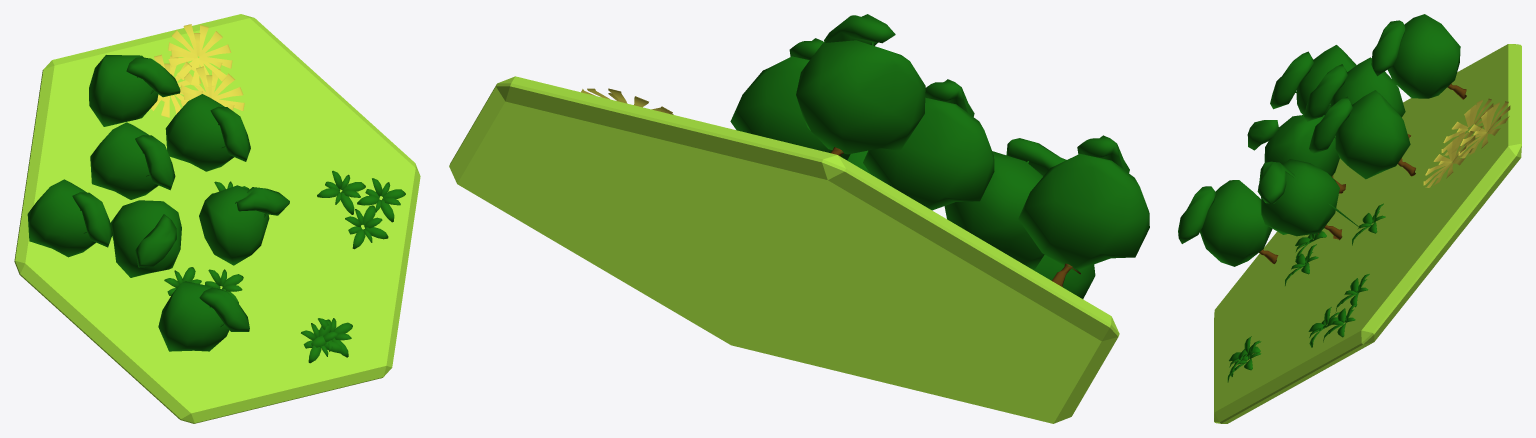
3 views of the same model, side by side, from view 1: azimuth 30°, elevation 25°; view 2: azimuth 150°, elevation 25°; view 3: azimuth 270°, elevation 25° (orthographic). The views are drawn at different scales.
Visible parts, largest first — view 1: Cylinder.001; view 2: Cylinder.001; view 3: Cylinder.001.
Part boxes in pixels (<box>): Cylinder.001: <box>14,14,420,423</box>; Cylinder.001: <box>449,14,1149,423</box>; Cylinder.001: <box>1178,14,1521,423</box>.
Size of the model in its own units: 460 by 321 by 316.
